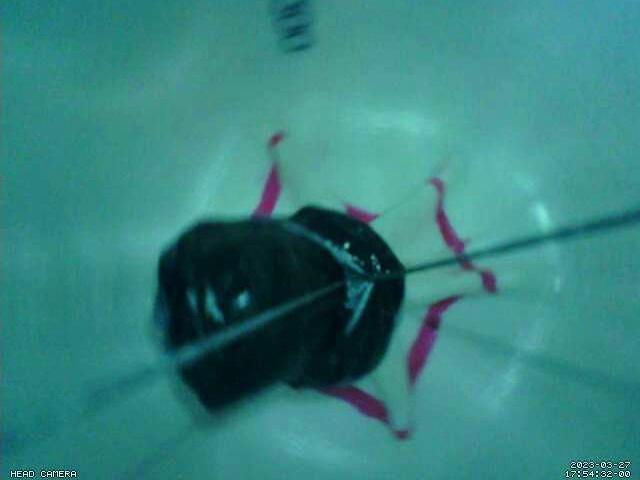red-circle: (253, 132, 499, 439)
